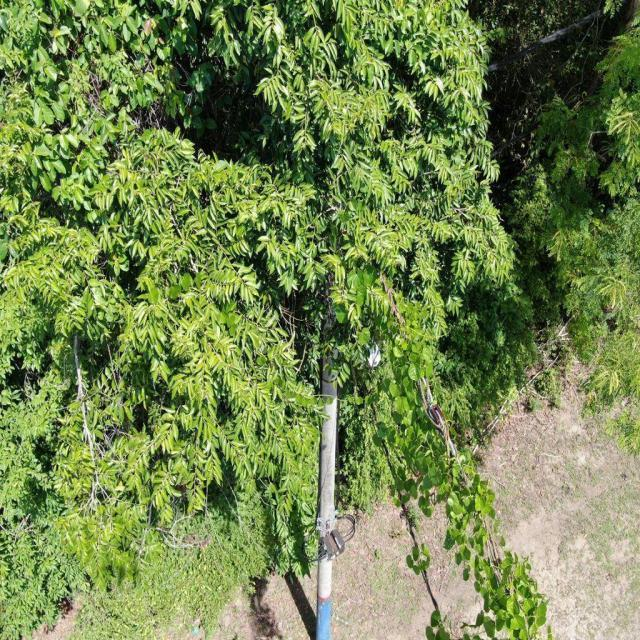critical vegetation: (317, 98, 554, 638)
